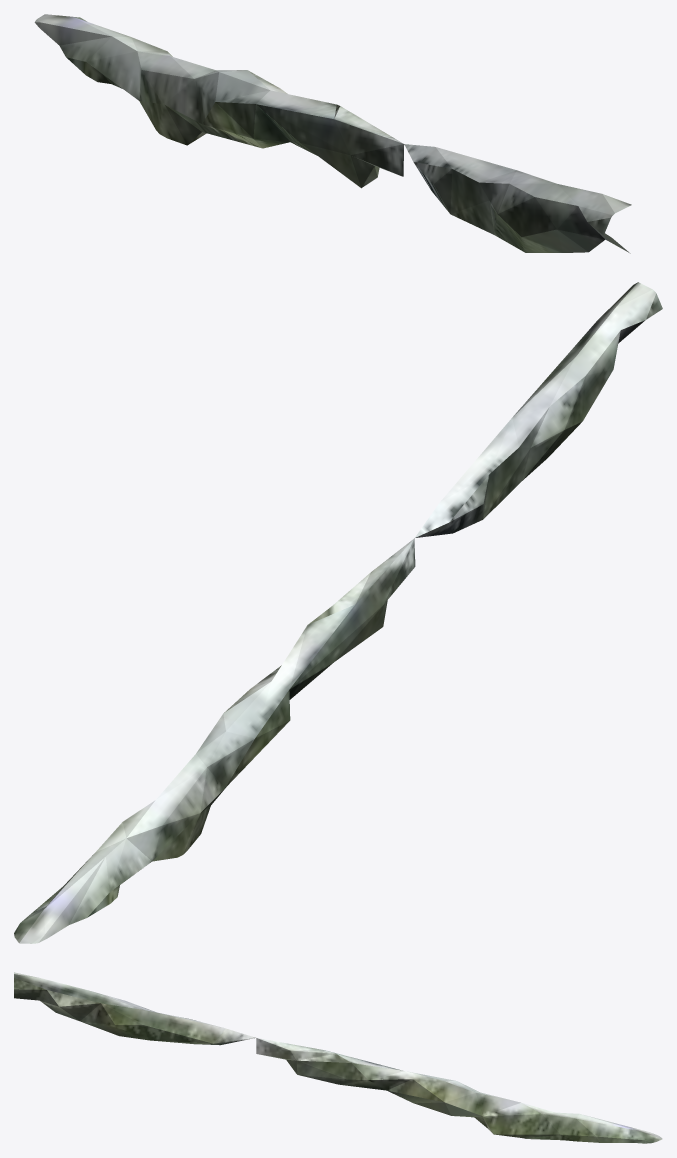
3 views of the same model, one above another, from view 1: azimuth 30°, elevation 25°; view 2: azimuth 150°, elevation 25°; view 3: azimuth 270°, elevation 25° (orthographic). The views are drawn at different scales.
Size of the model in its own units: 0.2675 by 0.7007 by 2.75.
1 material, 1 textured.
